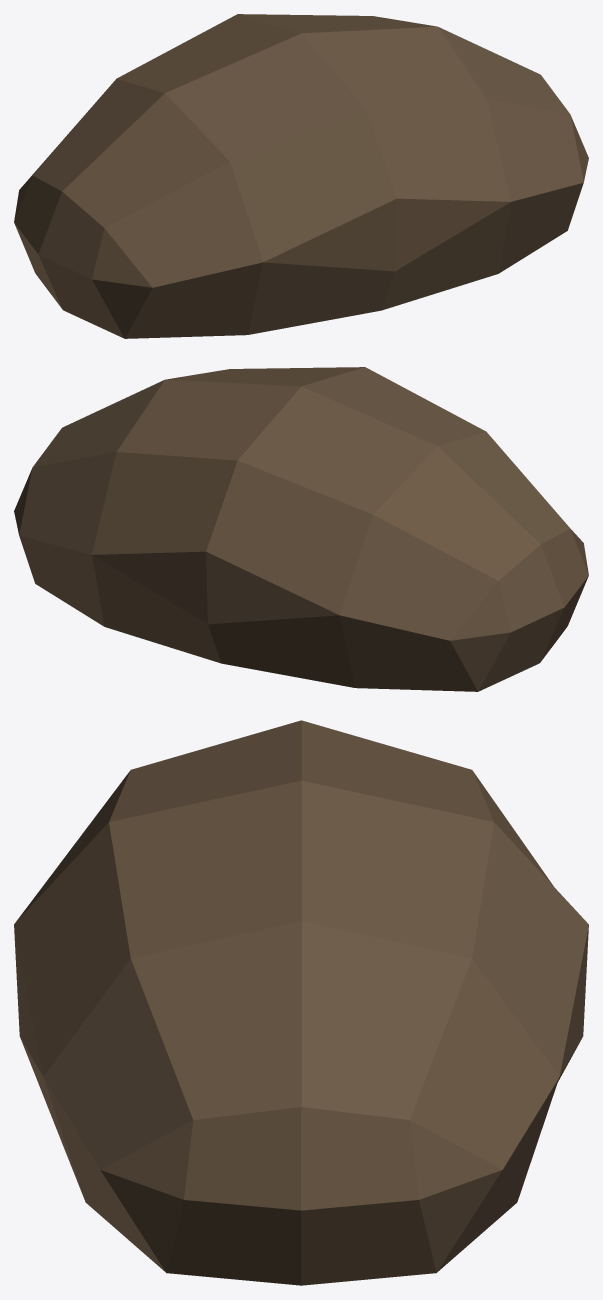
The model's file is Bread.glb.
The picture shows the model from 3 angles, top to bottom: view 1: azimuth 30°, elevation 25°; view 2: azimuth 150°, elevation 25°; view 3: azimuth 270°, elevation 25°; orthographic projection. The views are drawn at different scales.
Visible parts, largest first — view 1: Bread.001; view 2: Bread.001; view 3: Bread.001.
Boxes of the visible parts, x1,y1,x2,y2 form: Bread.001: (14,14,588,338); Bread.001: (14,367,588,691); Bread.001: (14,720,588,1285).
Bounding box in the file's own units: 0.3671 × 0.1458 × 0.2305.
1 material, 1 textured.
